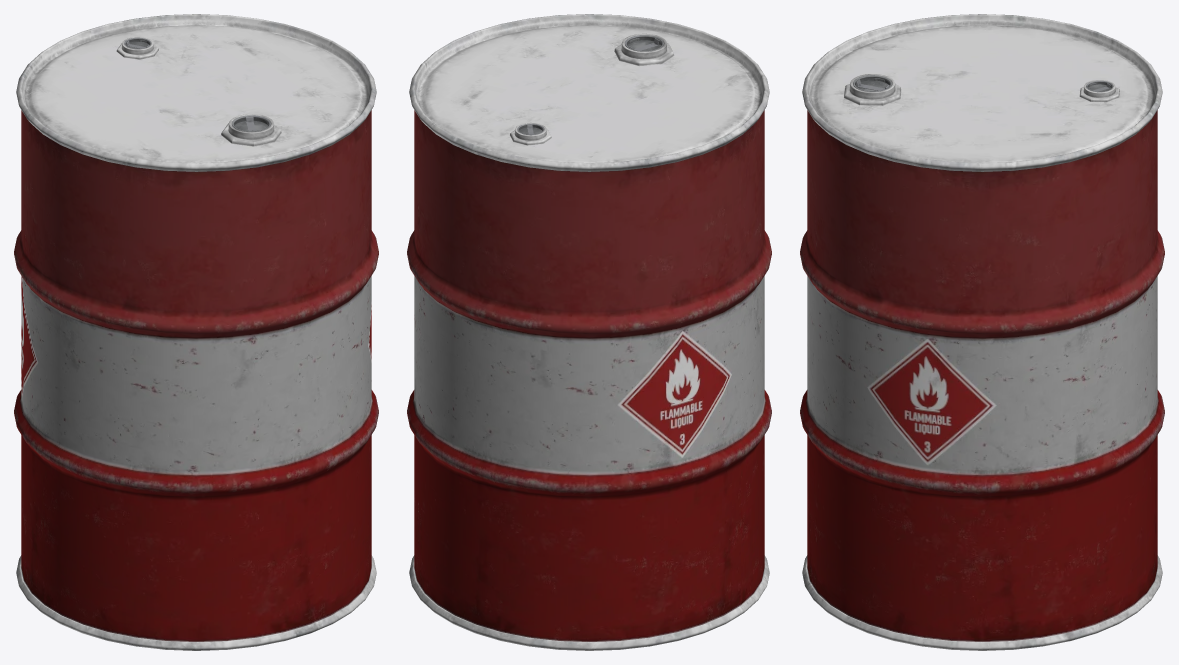
The model's file is oil_drum.glb.
3 renders of one model, left to right at view 1: azimuth 30°, elevation 25°; view 2: azimuth 150°, elevation 25°; view 3: azimuth 270°, elevation 25°, orthographic.
Parts seen in each view (by area): view 1: Barrel_low; view 2: Barrel_low; view 3: Barrel_low.
Boxes of the visible parts, x1=… form: Barrel_low: x1=14, y1=14, x2=378, y2=650; Barrel_low: x1=407, y1=14, x2=771, y2=650; Barrel_low: x1=800, y1=14, x2=1164, y2=650.
Bounding box in the file's own units: 48.35 × 72.11 × 48.35.
Materials: 1 (1 with a texture image).
